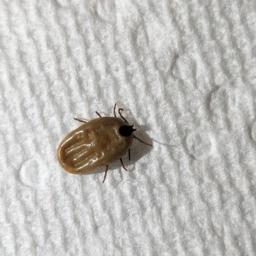Rhipicephalus sanguineus: (56, 102, 152, 183)
